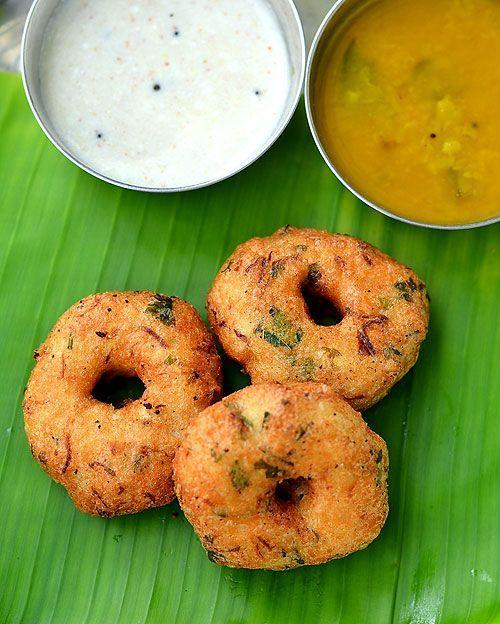coconut chutney: (36, 6, 302, 192)
medu vada: (45, 226, 435, 583)
sambhar: (318, 6, 500, 226)
